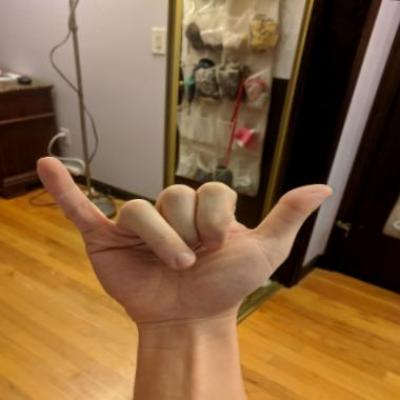hand: (26, 153, 340, 327)
